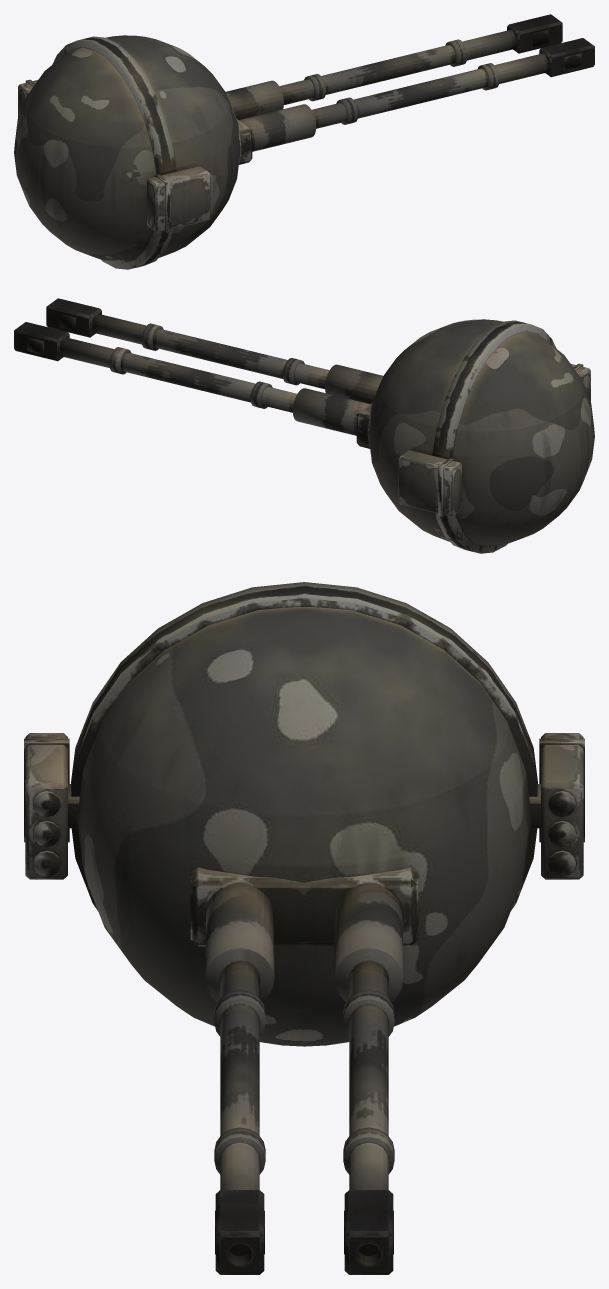
File: turret_kit_tail_ball_t2_ash.glb
3 renders of one model, top to bottom at view 1: azimuth 30°, elevation 25°; view 2: azimuth 150°, elevation 25°; view 3: azimuth 270°, elevation 25°, orthographic. The views are drawn at different scales.
Visible parts, largest first — view 1: turret_tail_ball_t2, pods; view 2: turret_tail_ball_t2, pods; view 3: turret_tail_ball_t2, pods.
Part boxes in pixels (x1,y1,x2,y2): turret_tail_ball_t2: (14,14,594,269); pods: (18,79,210,232); turret_tail_ball_t2: (14,298,594,553); pods: (398,363,590,516); turret_tail_ball_t2: (71,582,537,1274); pods: (24,733,584,879).
Bounding box in the file's own units: 1.66 × 0.62 × 0.7402.
Materials: 2 (2 with a texture image).
